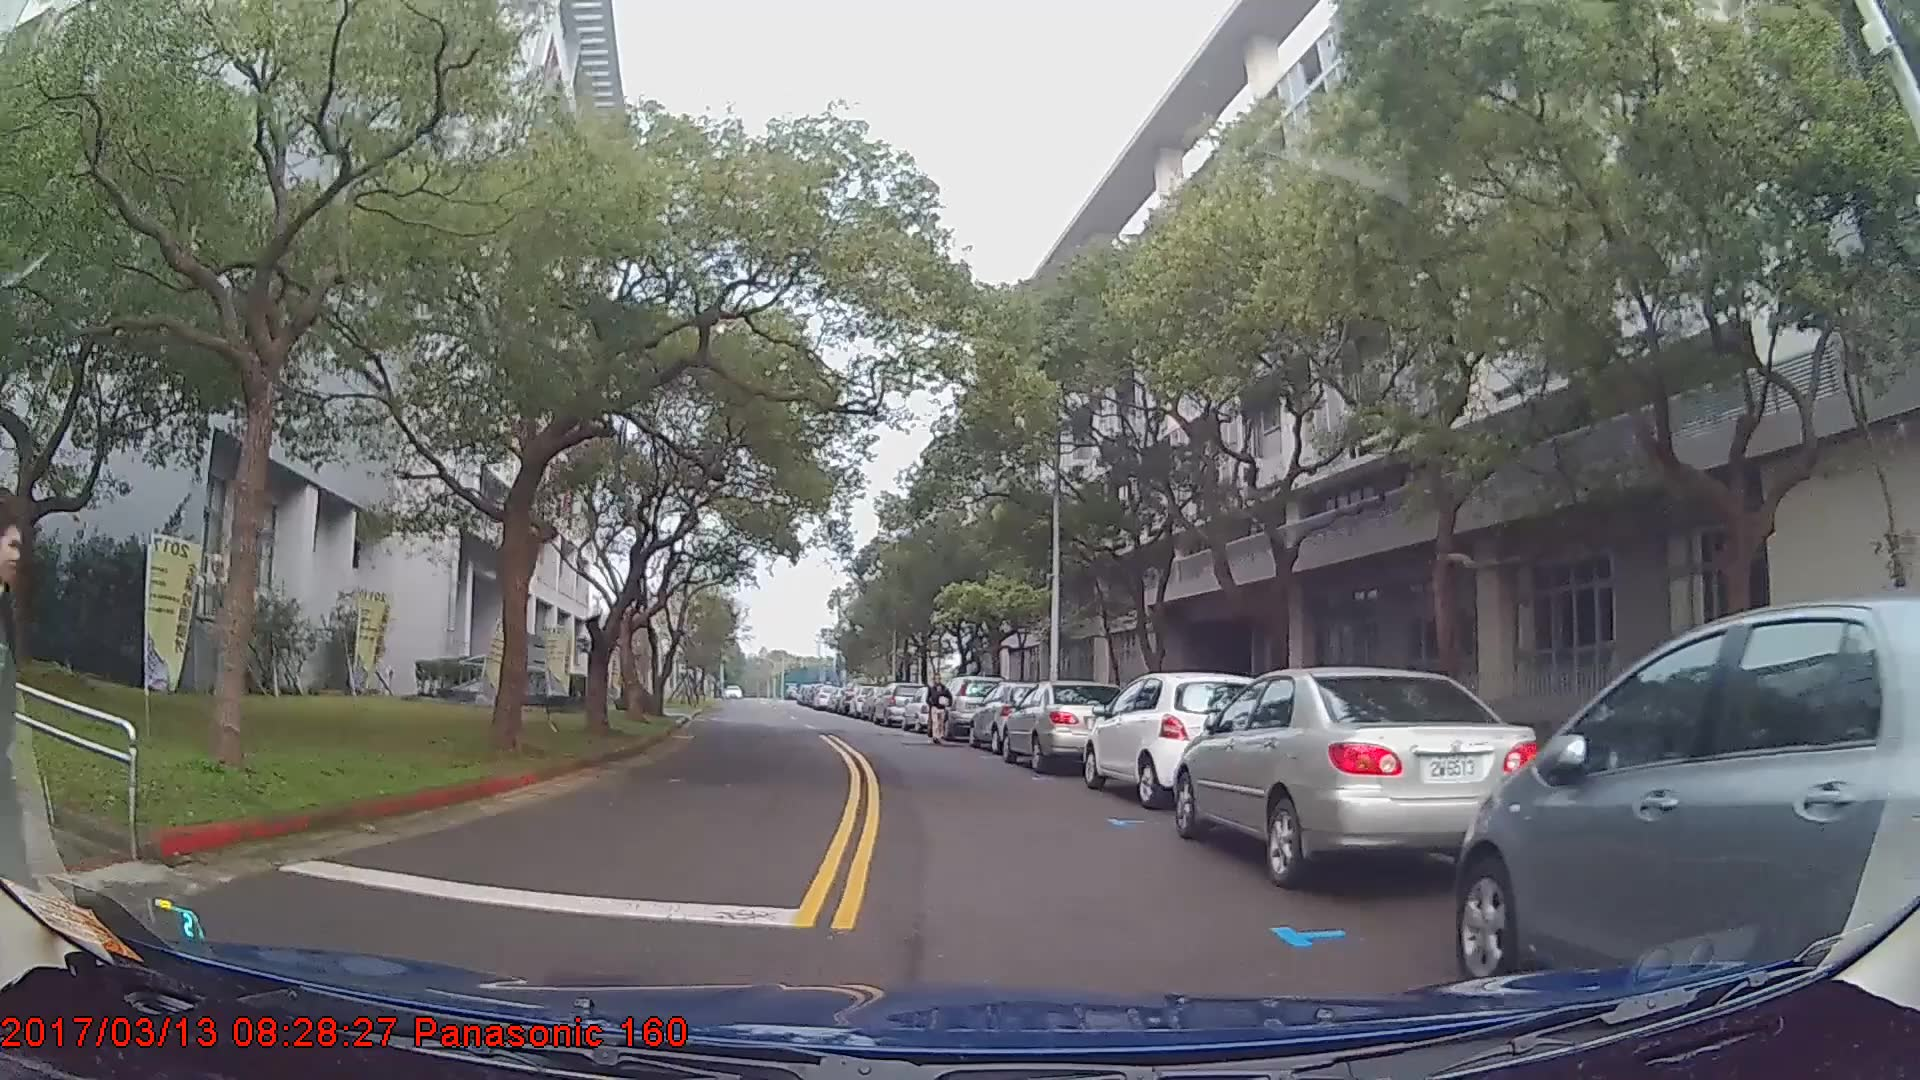pedestrian: (925, 675, 952, 749)
vehicle: (1453, 592, 1920, 1007), (1175, 664, 1546, 893), (1083, 670, 1268, 811), (1001, 681, 1125, 776), (968, 680, 1066, 757), (936, 676, 1005, 742), (869, 680, 926, 726)
